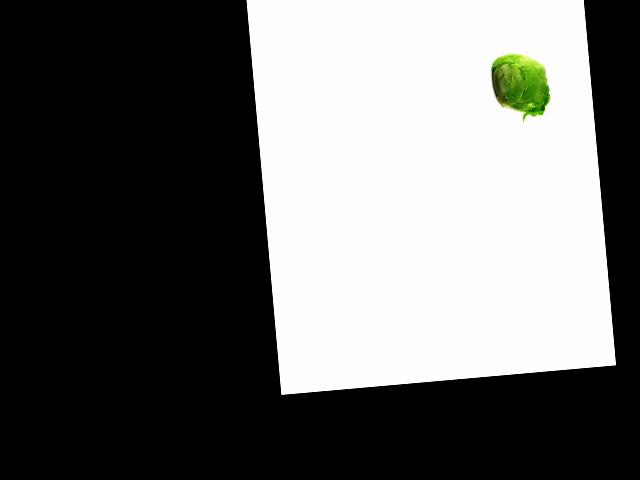lettuce: (487, 48, 553, 117)
